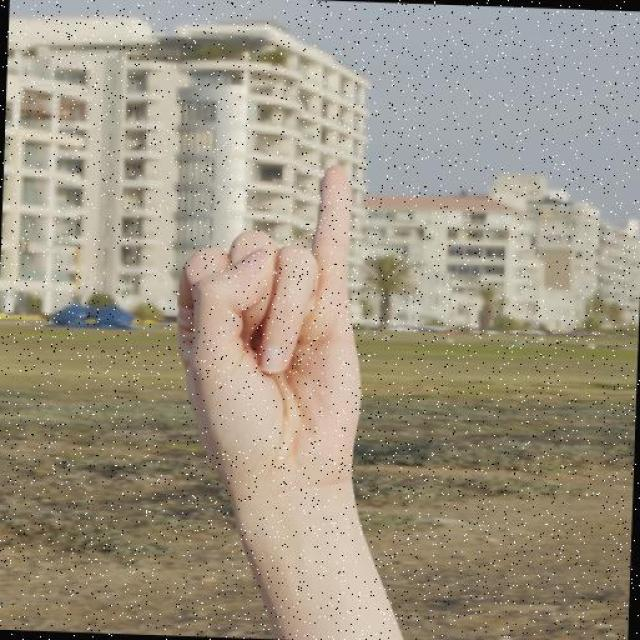I: (125, 133, 448, 602)
